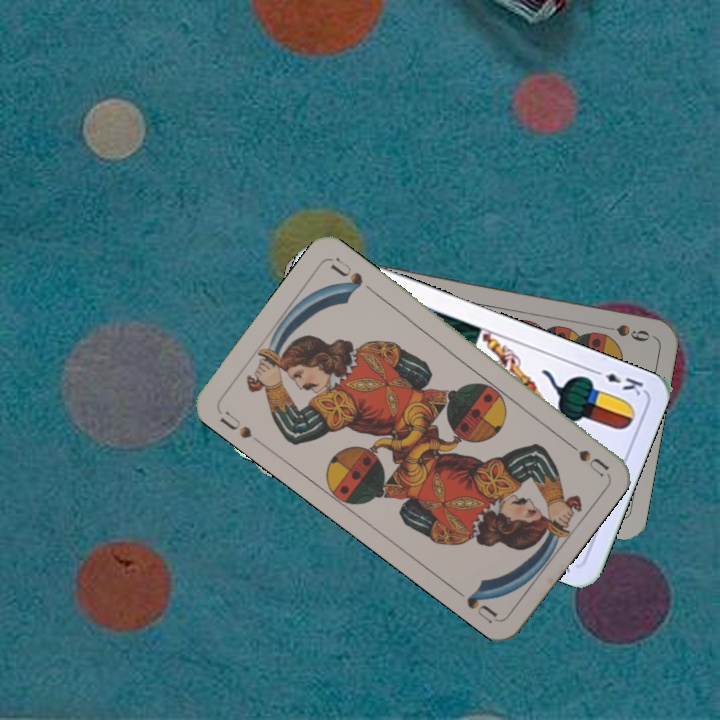EK: (588, 365, 646, 398)
S9: (594, 320, 653, 345)
SU: (558, 434, 611, 479), (215, 407, 255, 442)
